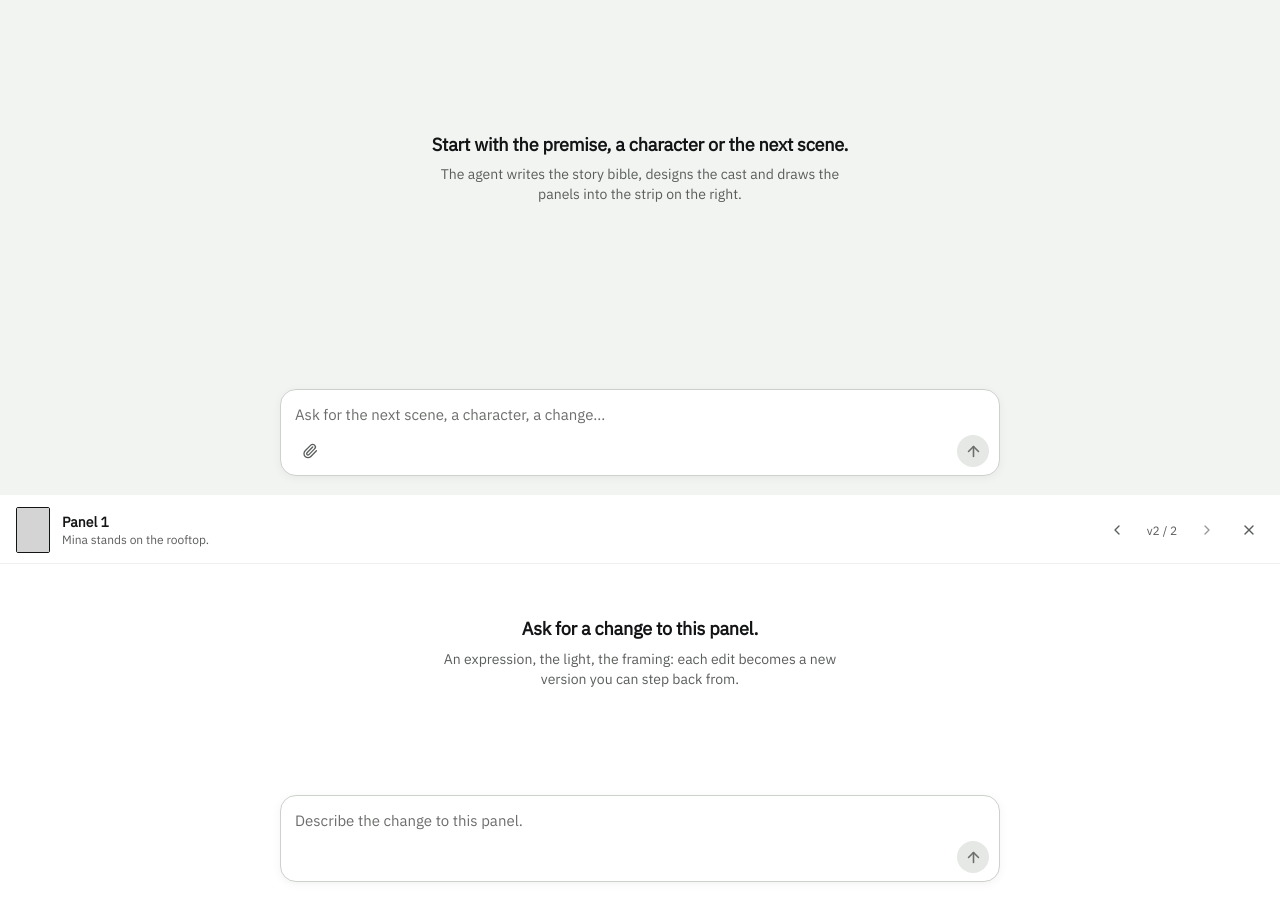
Test: PanelSideChat › closes with the close button
What coordinates should you click on to do the following:
click the button named "Close panel chat"
I would click on:
 (1249, 530)
Its box is [1234,516,1264,546].
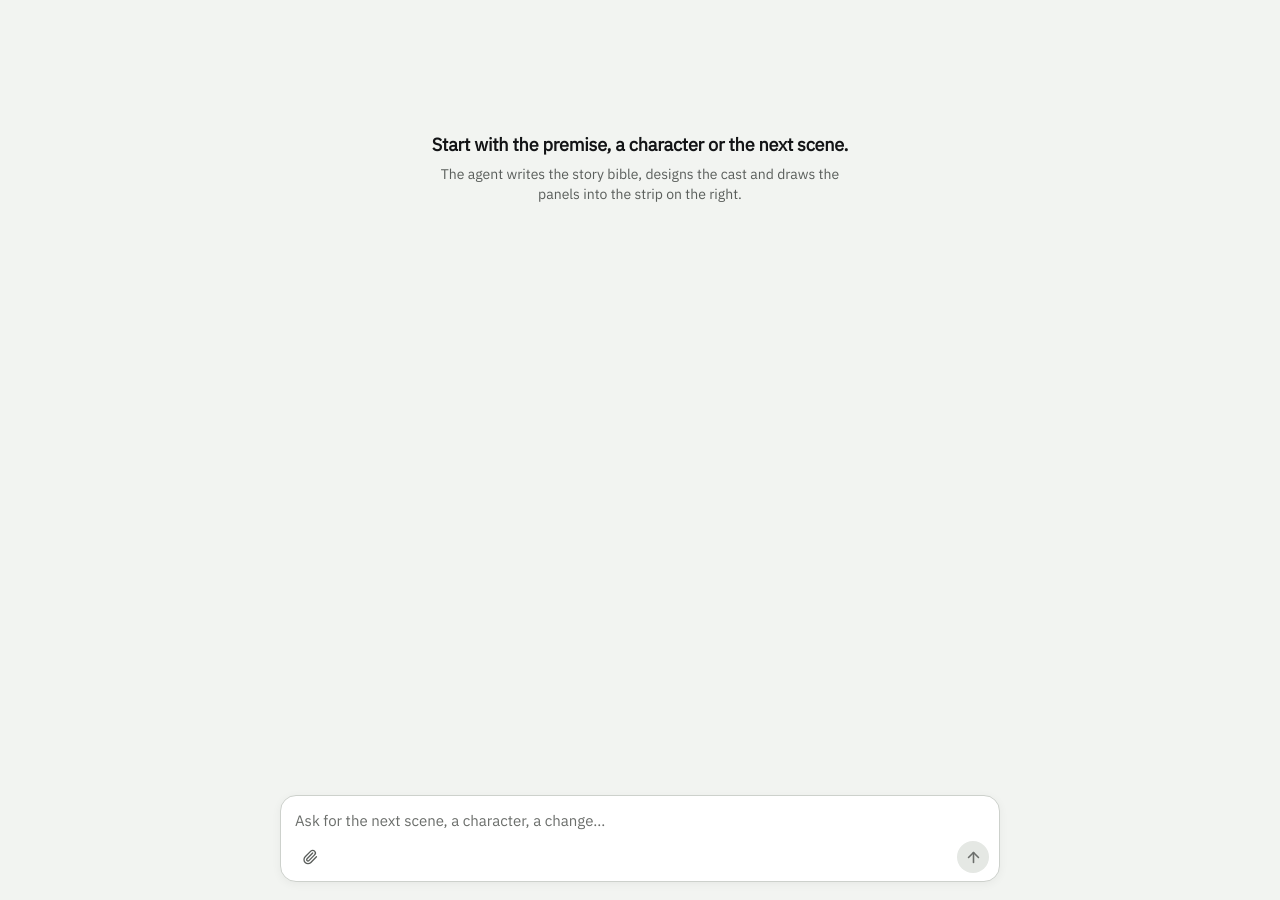
expect the element with test id "panel-side-chat" is gone: met
